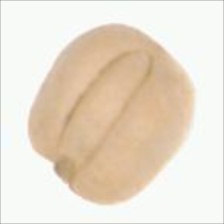L5: (50, 48, 156, 184)
L6: (26, 22, 198, 207)
